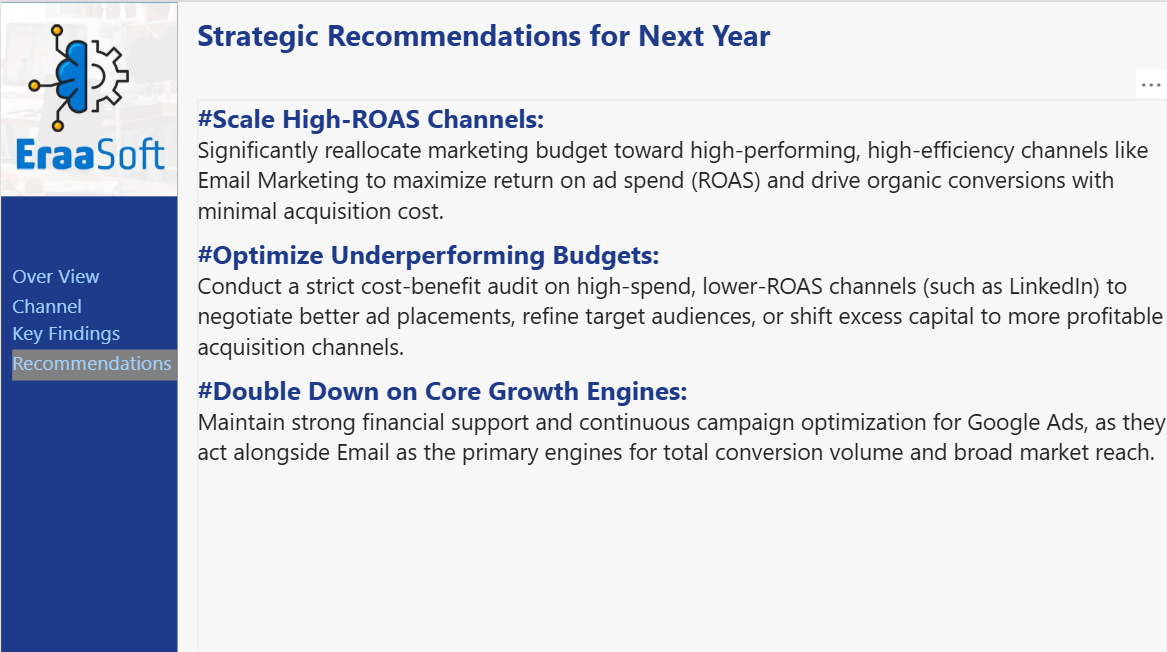

Layout of this report page (visuals, bound fields, positions):
{"tool":"powerbi","page":{"name":"Recommendations","canvas":[1920,1080],"ordinal":3},"visuals":[{"type":"shape","box":[0,0,290.8,1079.7],"z":0},{"type":"image","box":[0,0,290.8,320.7],"z":1000},{"type":"textbox","box":[322.9,21.4,1597.1,121.9],"z":2000},{"type":"textbox","box":[322.9,160.4,1597.1,919.4],"z":3000},{"type":"textbox","box":[19.2,427.6,173.2,49.2],"z":4000},{"type":"textbox","box":[19.2,476.8,156.1,47],"z":5000},{"type":"textbox","box":[19.2,523.8,198.8,49.2],"z":6000},{"type":"textbox","box":[19.2,573,271.5,51.3],"z":7000},{"type":"actionButton","box":[18.5,526.9,199.7,39.1],"z":7001},{"type":"actionButton","box":[18.5,481.6,135.8,41.2],"z":7002},{"type":"actionButton","box":[18.5,428.1,156.4,39.1],"z":7003}]}

Visuals, with their boxes on the page's 1920x1080 design canvas (x1, y1, x2, y2). These are canvas units, not pixel positions in the 1167x652 screenshot, which may show the page scaled, cropped or inside an application window:
shape: {"left": 0, "top": 0, "right": 291, "bottom": 1080}
image: {"left": 0, "top": 0, "right": 291, "bottom": 321}
textbox: {"left": 323, "top": 21, "right": 1920, "bottom": 143}
textbox: {"left": 323, "top": 160, "right": 1920, "bottom": 1080}
textbox: {"left": 19, "top": 428, "right": 192, "bottom": 477}
textbox: {"left": 19, "top": 477, "right": 175, "bottom": 524}
textbox: {"left": 19, "top": 524, "right": 218, "bottom": 573}
textbox: {"left": 19, "top": 573, "right": 291, "bottom": 624}
actionButton: {"left": 18, "top": 527, "right": 218, "bottom": 566}
actionButton: {"left": 18, "top": 482, "right": 154, "bottom": 523}
actionButton: {"left": 18, "top": 428, "right": 175, "bottom": 467}
